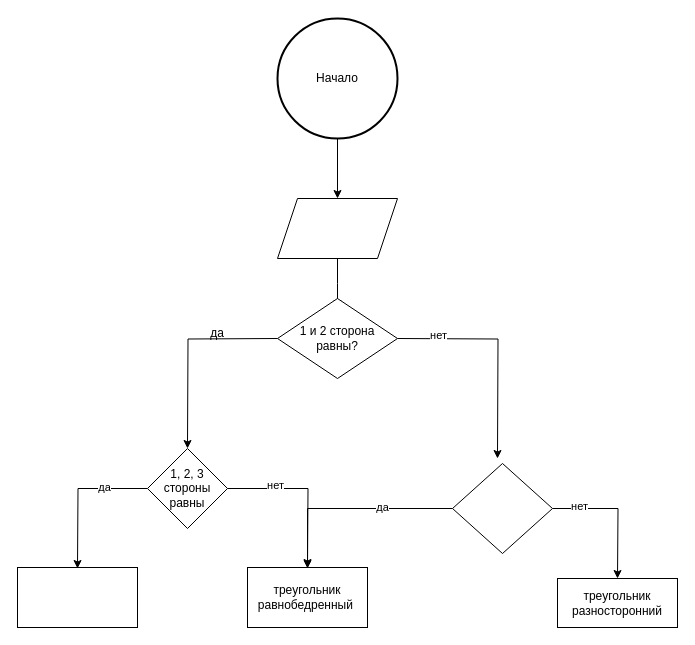
This 695x645 diagram has some shape labels left out. The shapes that lost their labels are listed below. From the top down, each one's centre as x and y in pixels, then its label:
At [337,228]: "Вводим 3 стороны треугольника".
At [502,508]: "2, 3 или 3,1 сторона равны".
At [77,597]: "треугольник равносторонний".
